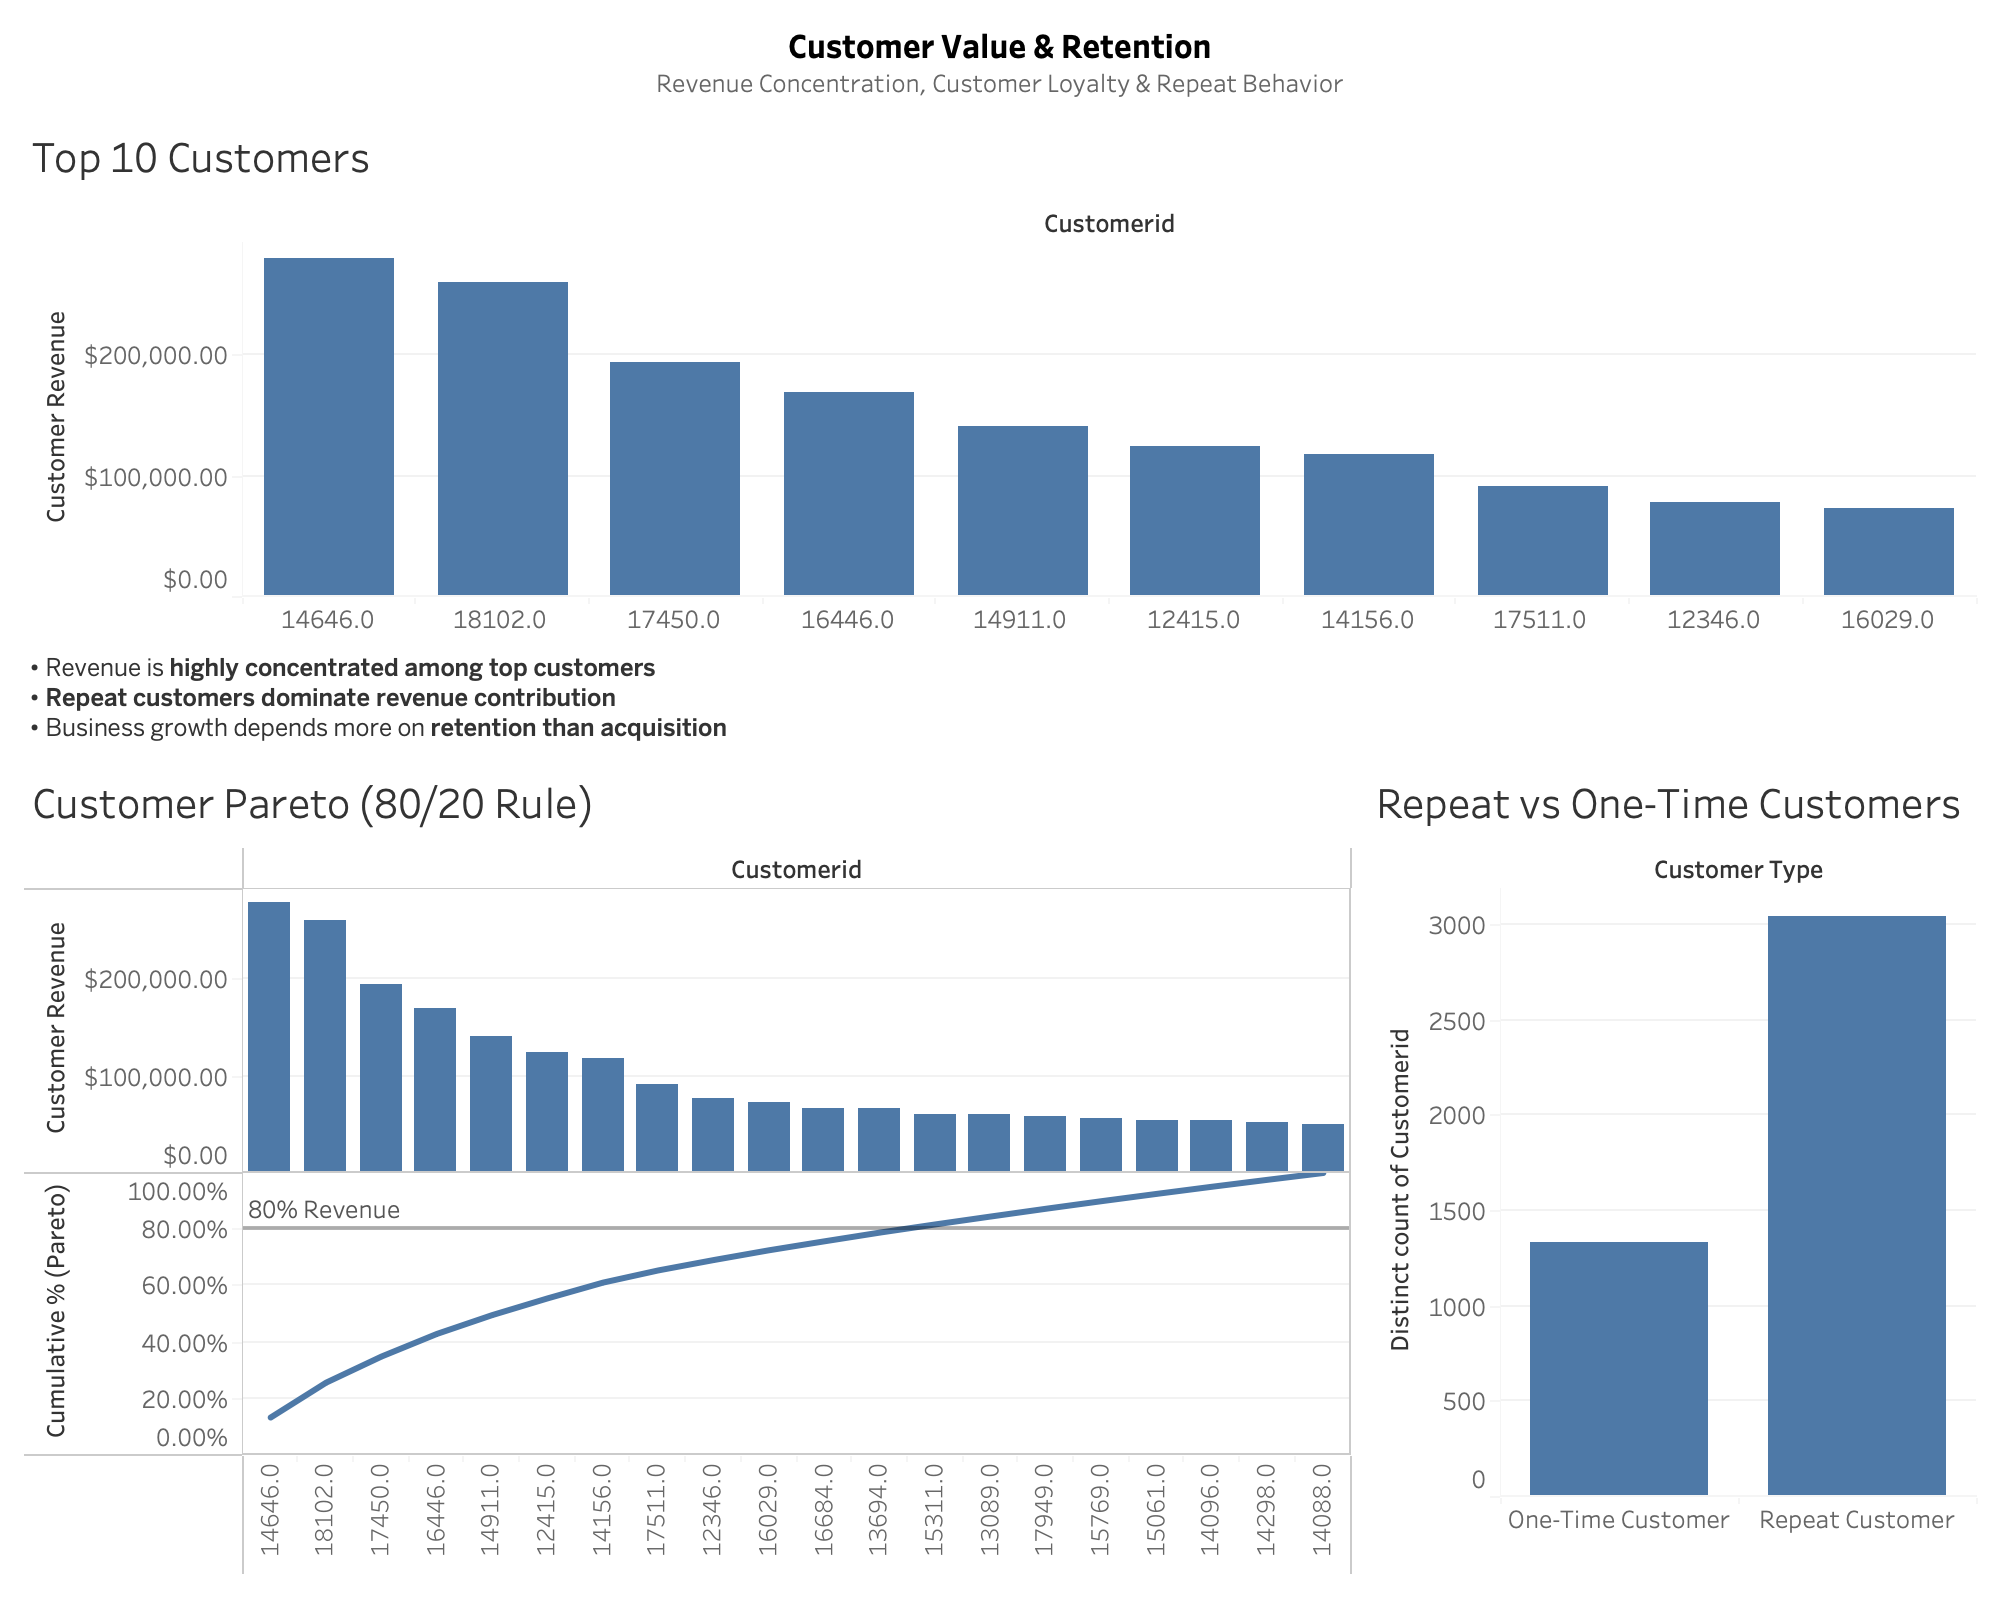

Layout of this report page (visuals, bound fields, positions):
{"tool":"tableau","page":{"name":"Customer Value & Retention","canvas":[1000,800],"ordinal":0},"visuals":[{"type":"text","box":[8,8,984,46]},{"type":"worksheet","title":"Top 10 Customers","mark":"Automatic","rows":["customer_revenue"],"box":[8,54,984,269]},{"type":"text","box":[8,323,984,54]},{"type":"worksheet","title":"Customer Pareto (80/20 Rule)","mark":"Automatic","rows":["customer_revenue","Calculation_0152232869851138"],"box":[8,377,672,415]},{"type":"worksheet","title":"Repeat vs One-Time Customers","mark":"Automatic","box":[680,377,312,415]}]}

Visuals, with their boxes in screenshot pixels (x1, y1, x2, y2), scaled from the page's 1000x800 canvas onto the 2000x1600 screenshot:
text: bbox=(16, 16, 1984, 108)
"Top 10 Customers" worksheet: bbox=(16, 108, 1984, 646)
text: bbox=(16, 646, 1984, 754)
"Customer Pareto (80/20 Rule)" worksheet: bbox=(16, 754, 1360, 1584)
"Repeat vs One-Time Customers" worksheet: bbox=(1360, 754, 1984, 1584)
